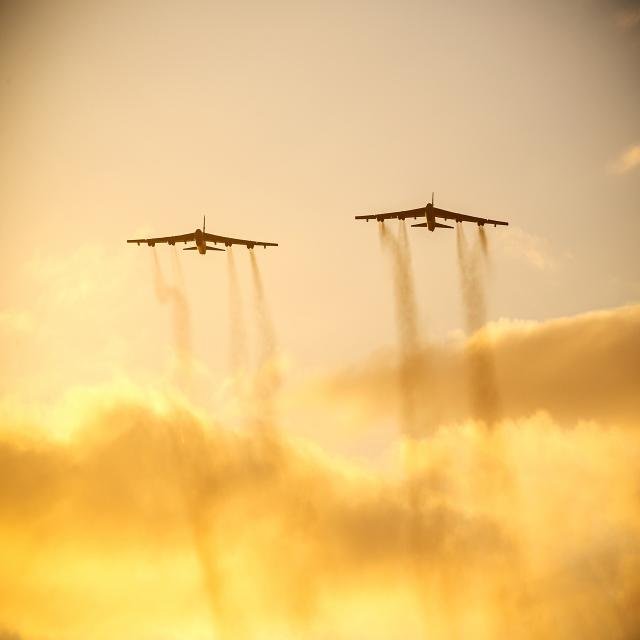MIL_Plane: (126, 216, 278, 256), (362, 191, 497, 233)
